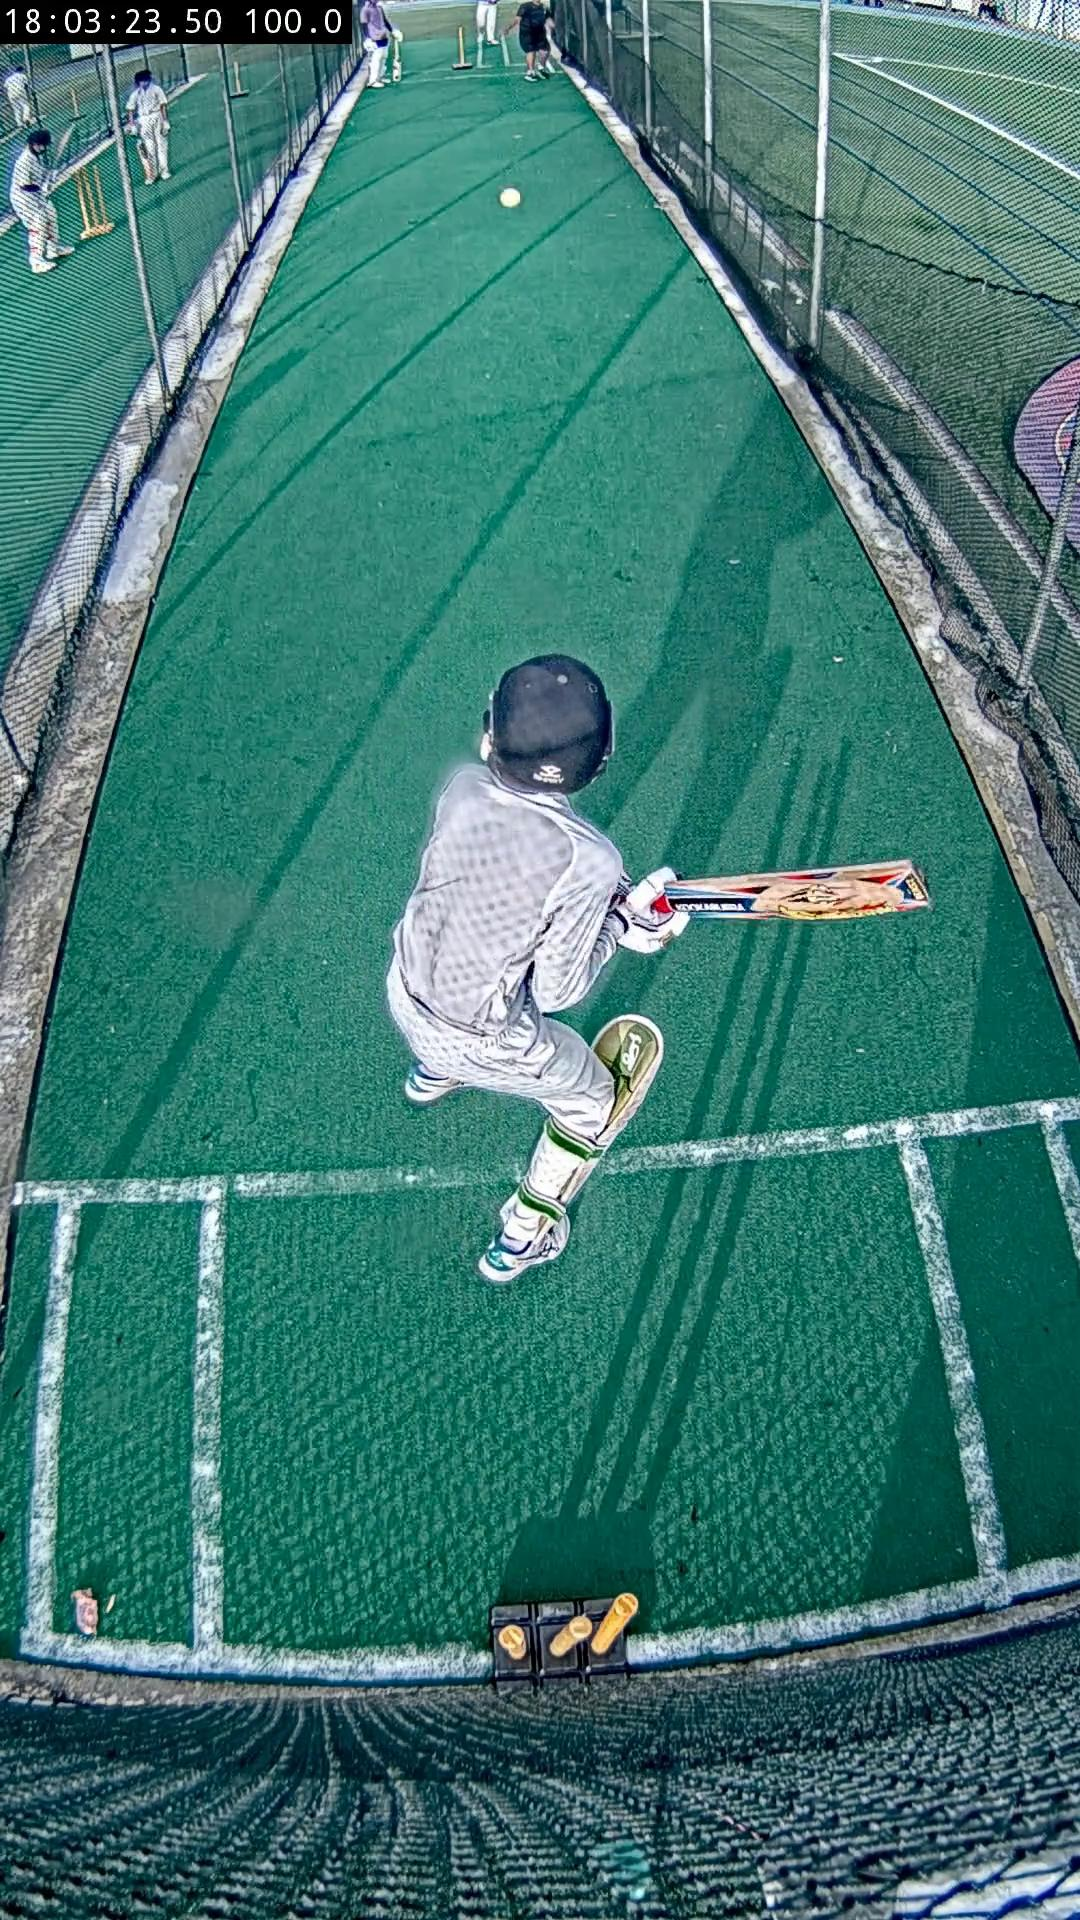ball: (498, 187, 521, 206)
bat: (663, 858, 930, 919)
gloves: (615, 866, 690, 952)
helmet: (488, 653, 612, 791)
pads: (592, 1013, 663, 1151)
stumps: (492, 1594, 641, 1684)
